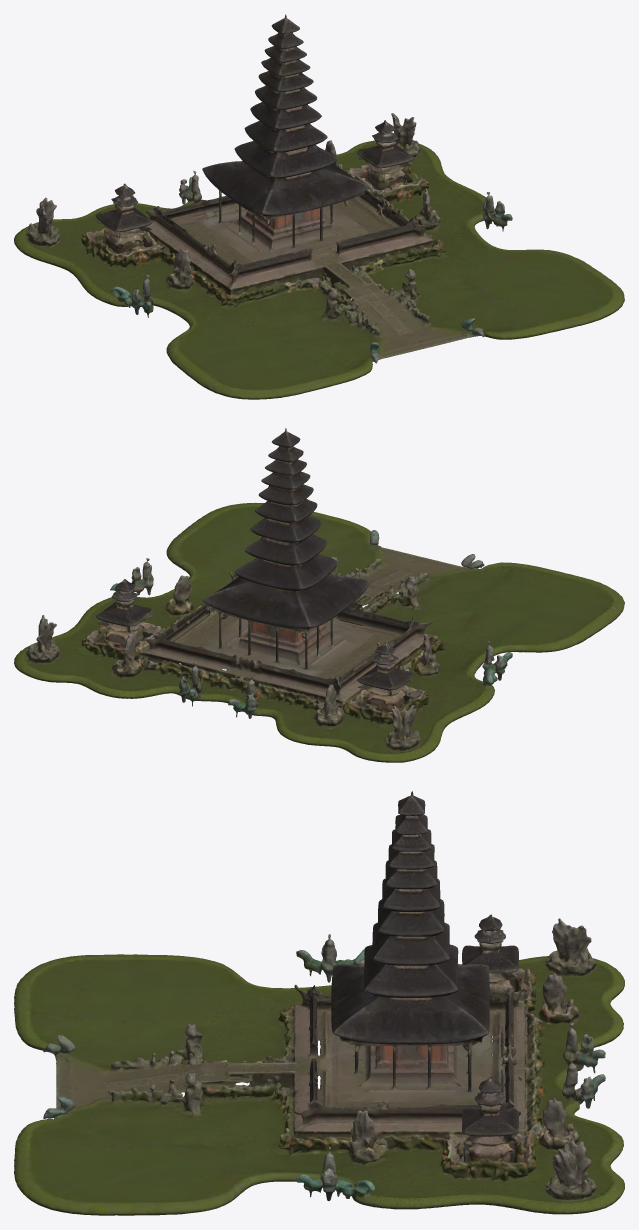
The model's file is ulun-danu.glb.
3 views of the same model, one above another, from view 1: azimuth 30°, elevation 25°; view 2: azimuth 150°, elevation 25°; view 3: azimuth 270°, elevation 25° (orthographic). The views are drawn at different scales.
Size of the model in its own units: 1.9 by 1.02 by 1.9.
Materials: 1 (1 with a texture image).
